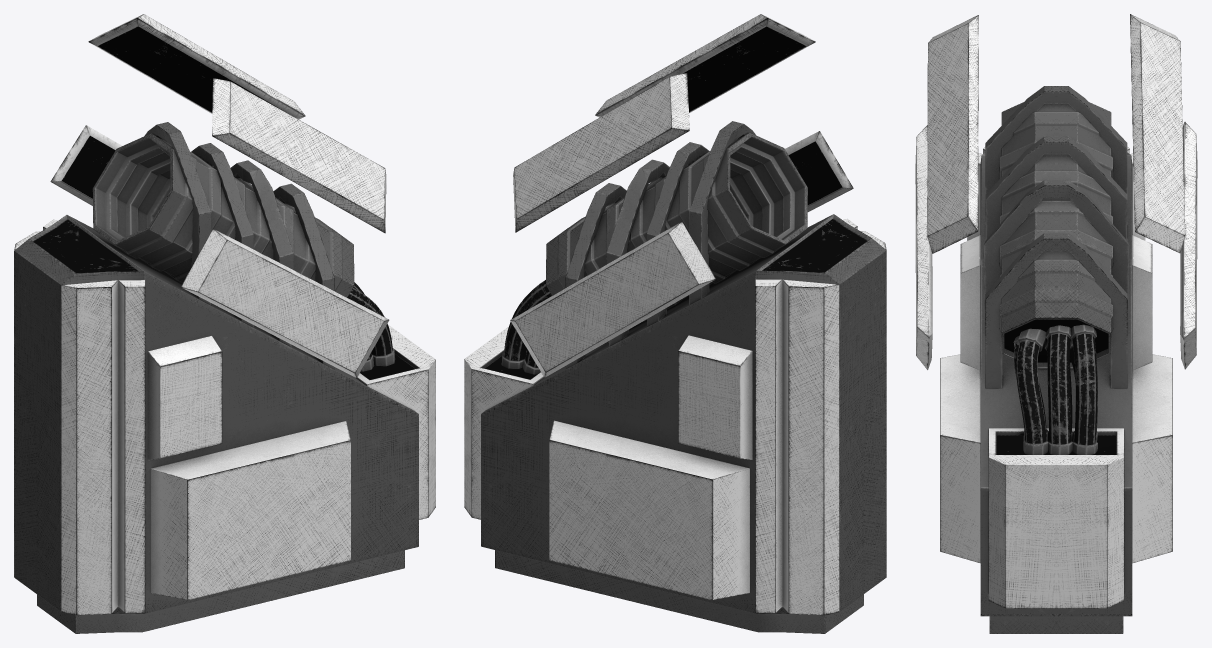
Rendered from SM_Interactable_BatterySocket_Exploded.fbx.
The picture shows the model from 3 angles, left to right: view 1: azimuth 30°, elevation 25°; view 2: azimuth 150°, elevation 25°; view 3: azimuth 270°, elevation 25°; orthographic projection. The views are drawn at different scales.
Visible parts, largest first — view 1: BatteryHolderBase, BatteryHole, Cables; view 2: BatteryHolderBase, BatteryHole, Cables; view 3: BatteryHolderBase, BatteryHole, Cables.
Boxes of the visible parts, <box> form: BatteryHolderBase: <box>14,14,435,633</box>; BatteryHole: <box>92,133,354,297</box>; Cables: <box>347,282,395,371</box>; BatteryHolderBase: <box>464,14,886,633</box>; BatteryHole: <box>546,132,807,321</box>; Cables: <box>501,280,551,374</box>; BatteryHolderBase: <box>915,14,1197,633</box>; BatteryHole: <box>1000,102,1112,369</box>; Cables: <box>1013,324,1097,454</box>.
Size of the model in its own units: 73.29 by 49.71 by 103.
